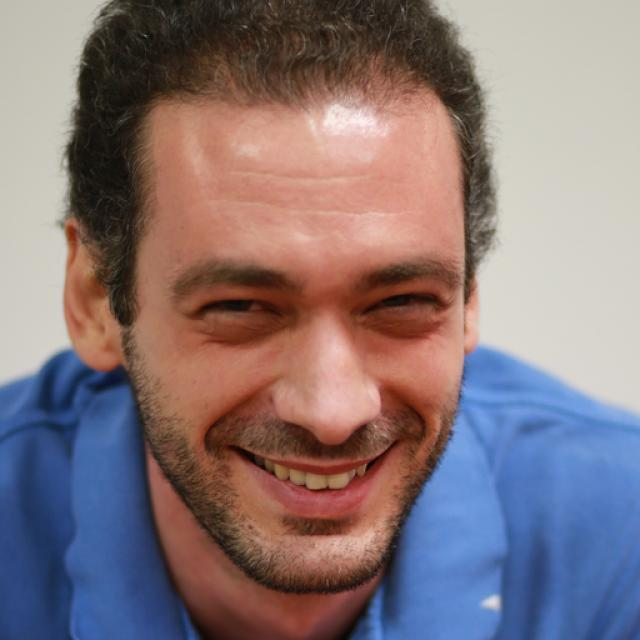0_rostro_limpio: (67, 0, 473, 592)
